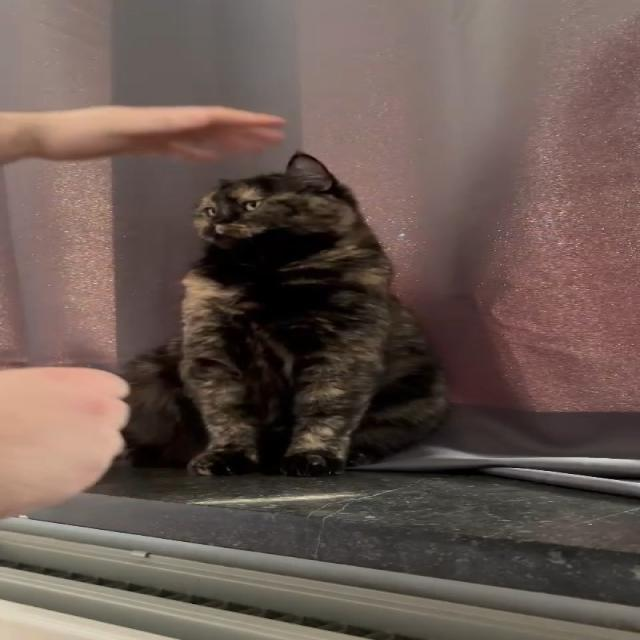authorized: (116, 150, 451, 477)
